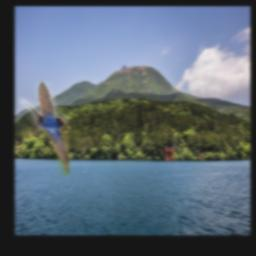Swallow: (19, 82, 69, 176)
